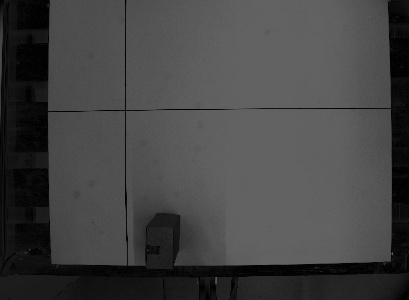b6: (143, 210, 181, 273)
